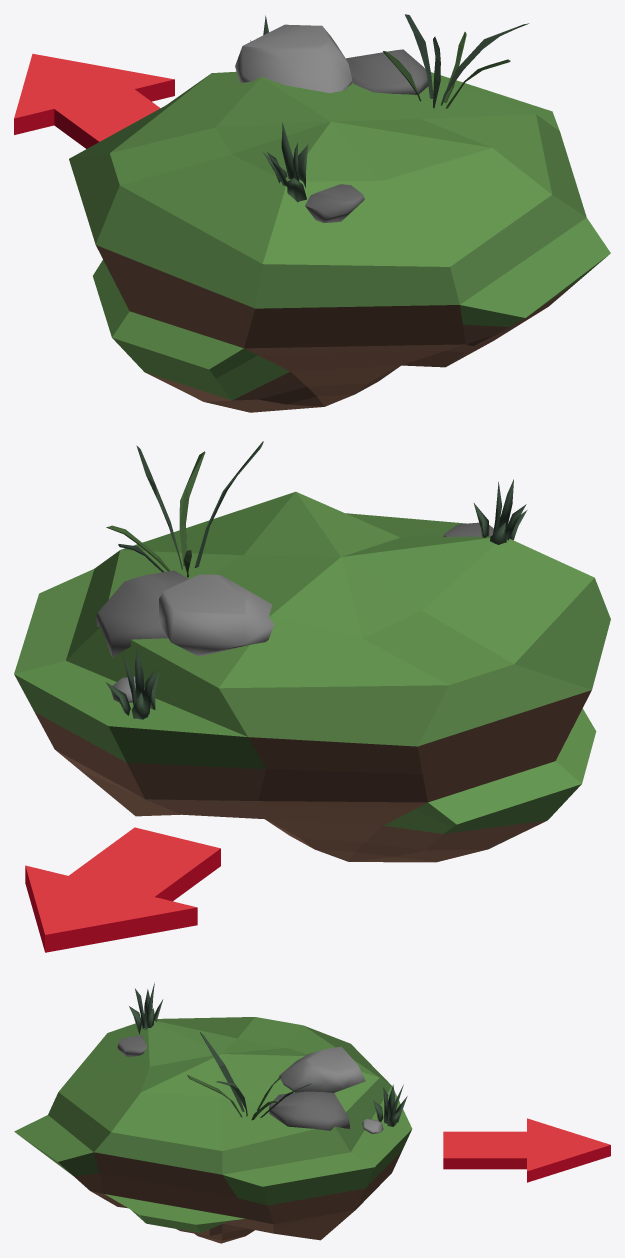
The model's file is Horizontal_Platform_Pirates_Alt.glb.
3 renders of one model, top to bottom at view 1: azimuth 30°, elevation 25°; view 2: azimuth 150°, elevation 25°; view 3: azimuth 270°, elevation 25°, orthographic. The views are drawn at different scales.
Visible parts, largest first — view 1: Pirate_Platform_02, Plane.002; view 2: Pirate_Platform_02, Plane.002; view 3: Pirate_Platform_02, Plane.002.
Part boxes in pixels (x1,y1,x2,y2): Pirate_Platform_02: (69,14,610,412); Plane.002: (14,53,174,148); Pirate_Platform_02: (14,441,610,862); Plane.002: (25,827,220,952); Pirate_Platform_02: (14,983,412,1243); Plane.002: (443,1118,610,1182).
Size of the model in its own units: 2.1 by 1.48 by 3.29.
Materials: 2 (2 with a texture image).
